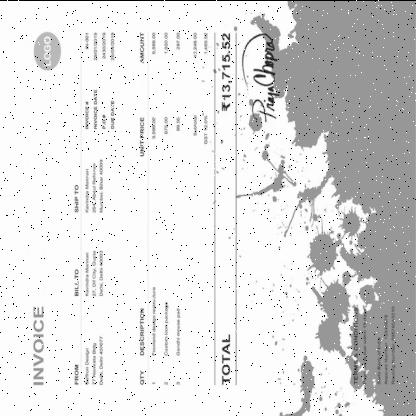Paragraph: (216, 29, 233, 387), (352, 302, 398, 388), (82, 26, 118, 132), (190, 29, 210, 148), (72, 156, 106, 216), (72, 333, 106, 388), (72, 245, 106, 300), (32, 303, 46, 387)
Table: (134, 28, 184, 390)
